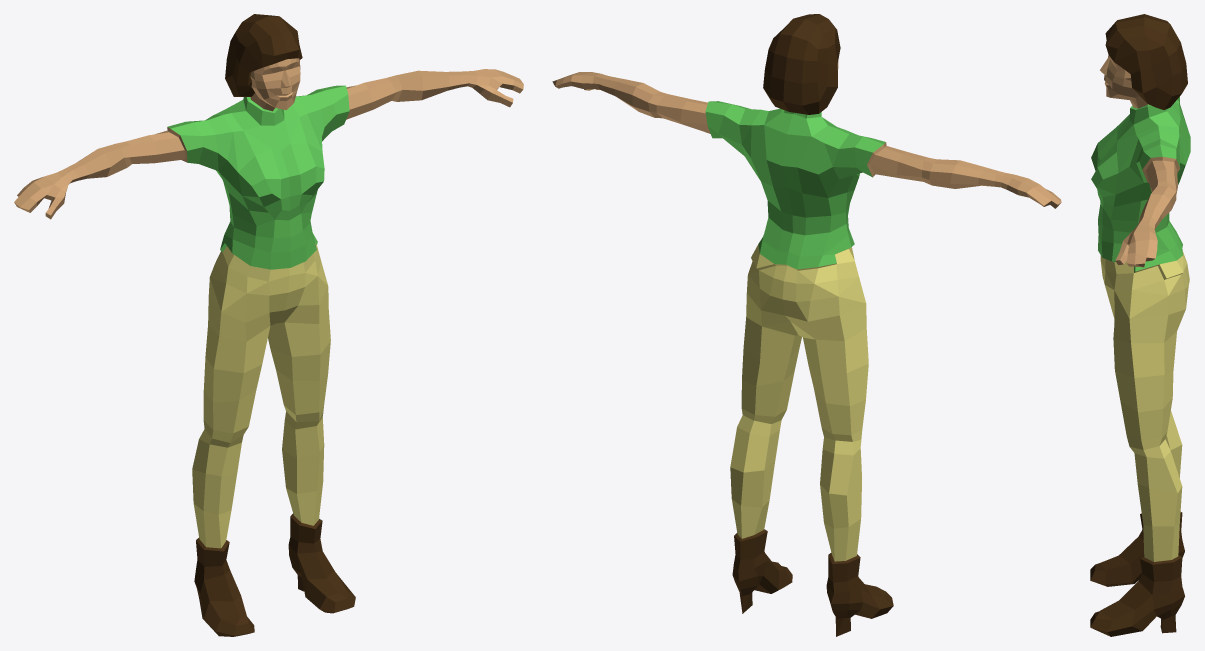
The model's file is person5.fbx.
3 renders of one model, left to right at view 1: azimuth 30°, elevation 25°; view 2: azimuth 150°, elevation 25°; view 3: azimuth 270°, elevation 25°, orthographic.
Visible parts, largest first — view 1: Girl1_Face, Girl1_Chest, Group011, Girl1_Shoes, Girl1_Hair; view 2: Girl1_Face, Girl1_Chest, Group011, Girl1_Hair, Girl1_Shoes; view 3: Girl1_Face, Girl1_Chest, Girl1_Shoes, Girl1_Hair, Group011.
Part boxes in pixels (<box>): Girl1_Face: <box>192,243,330,548</box>; Girl1_Chest: <box>167,85,349,269</box>; Group011: <box>14,58,523,219</box>; Girl1_Shoes: <box>194,513,355,636</box>; Girl1_Hair: <box>225,14,302,96</box>; Girl1_Face: <box>730,244,868,561</box>; Girl1_Chest: <box>705,101,885,269</box>; Group011: <box>552,61,1061,208</box>; Girl1_Hair: <box>763,14,840,114</box>; Girl1_Shoes: <box>732,529,893,636</box>; Girl1_Face: <box>1100,251,1189,561</box>; Girl1_Chest: <box>1091,96,1190,272</box>; Girl1_Shoes: <box>1090,512,1184,636</box>; Girl1_Hair: <box>1105,14,1187,109</box>; Group011: <box>1100,54,1179,267</box>.
Size of the model in its own units: 60.9 by 68.5 by 10.55.
